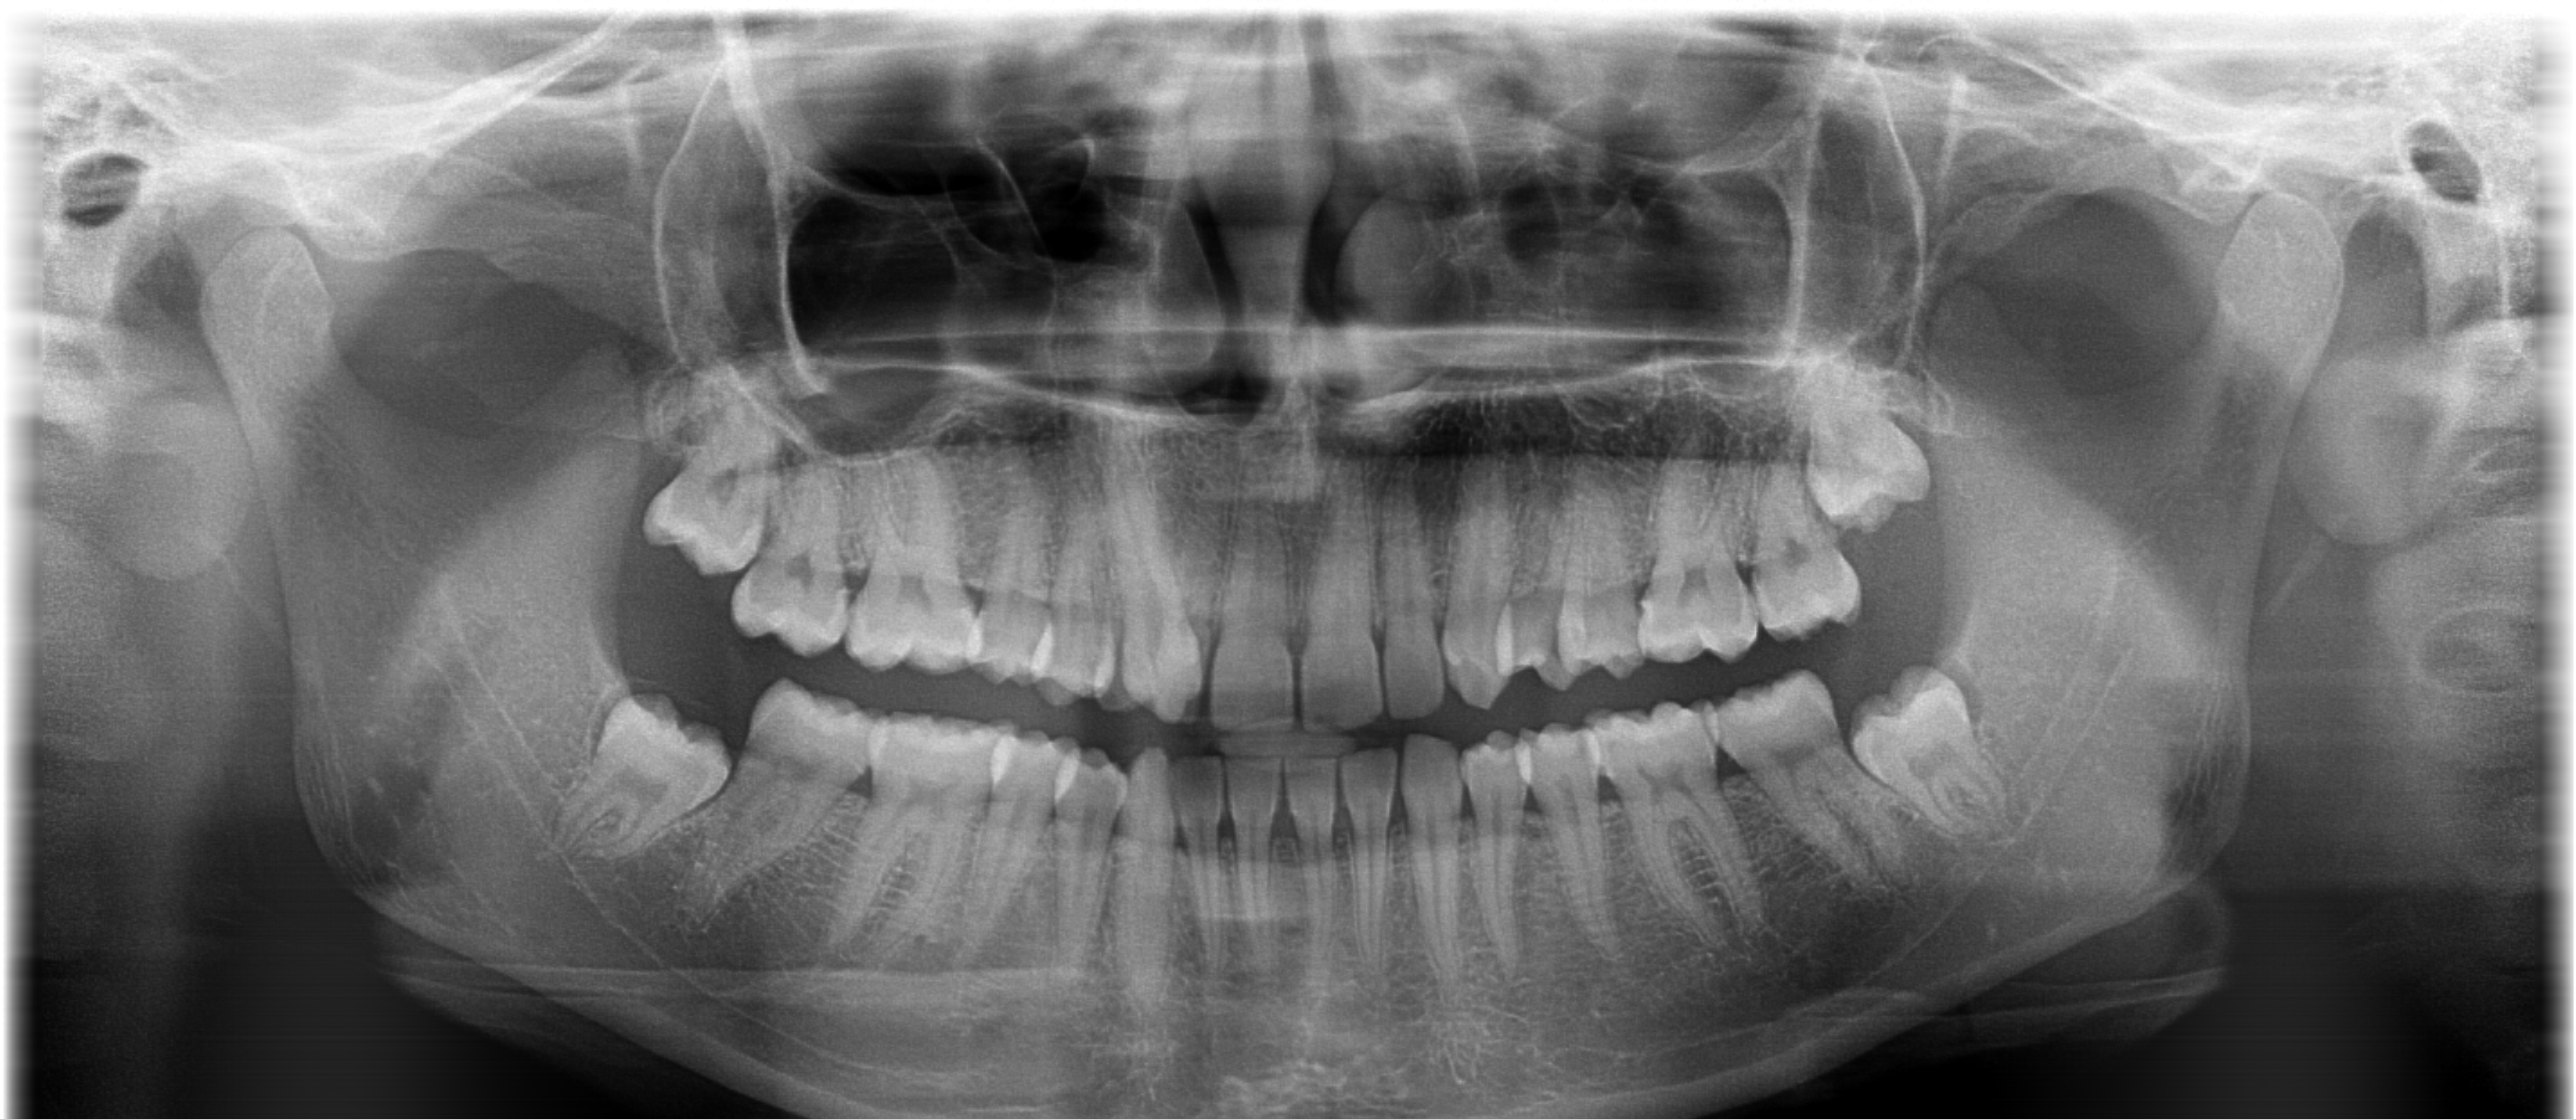cordal: (514, 651, 751, 876), (1810, 644, 2047, 869), (1761, 337, 1998, 562), (591, 373, 828, 598)
